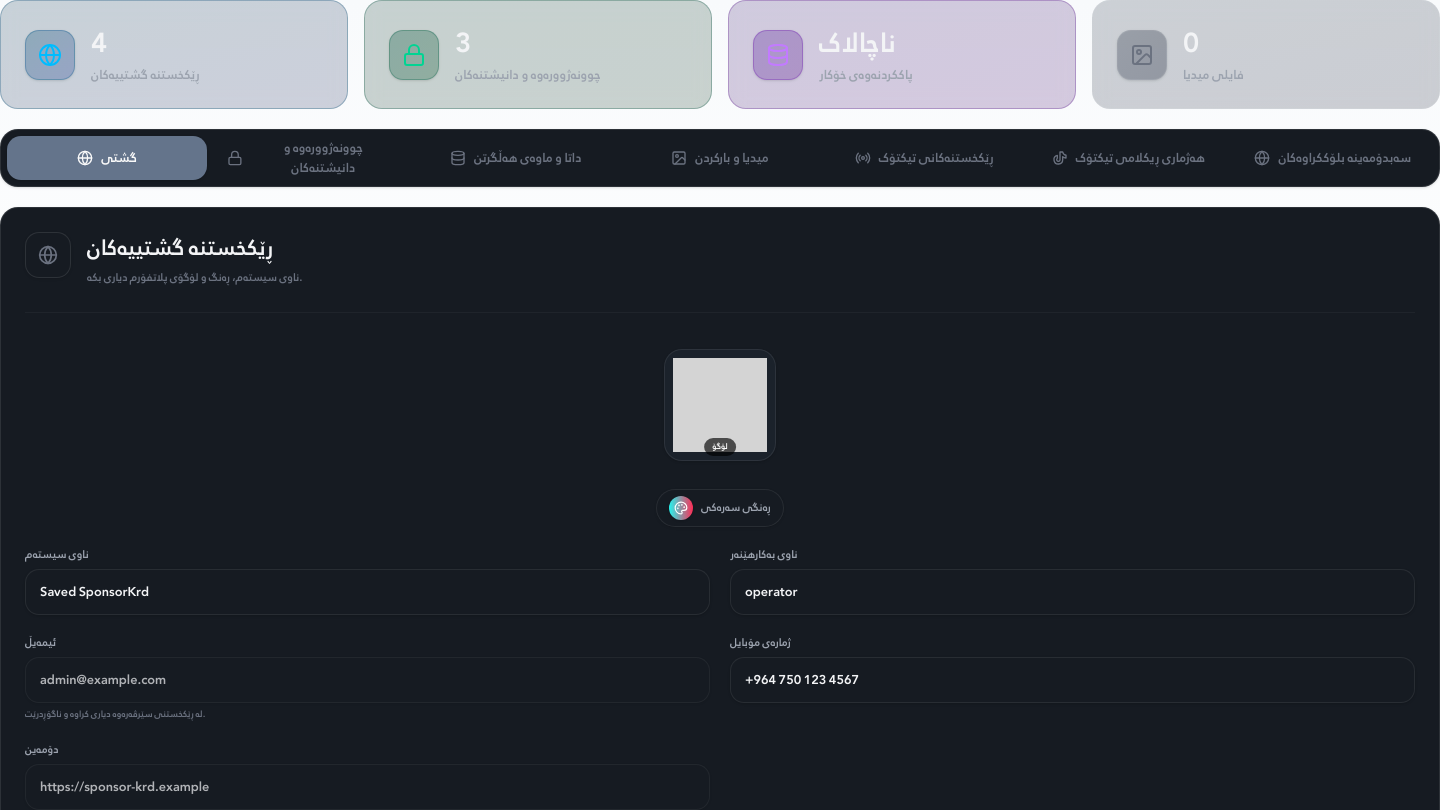
Test: PlatformSettingsPage General tab › loads the database-backed data retention tab
This screenshot has width=1440, height=810.
expect the 1st field showing "Saved SponsorKrd" is shown: met, box [25,568,710,614]
Click the tab "داتا و ماوەی هەڵگرتن" at (516, 158), box [416,136,616,180]
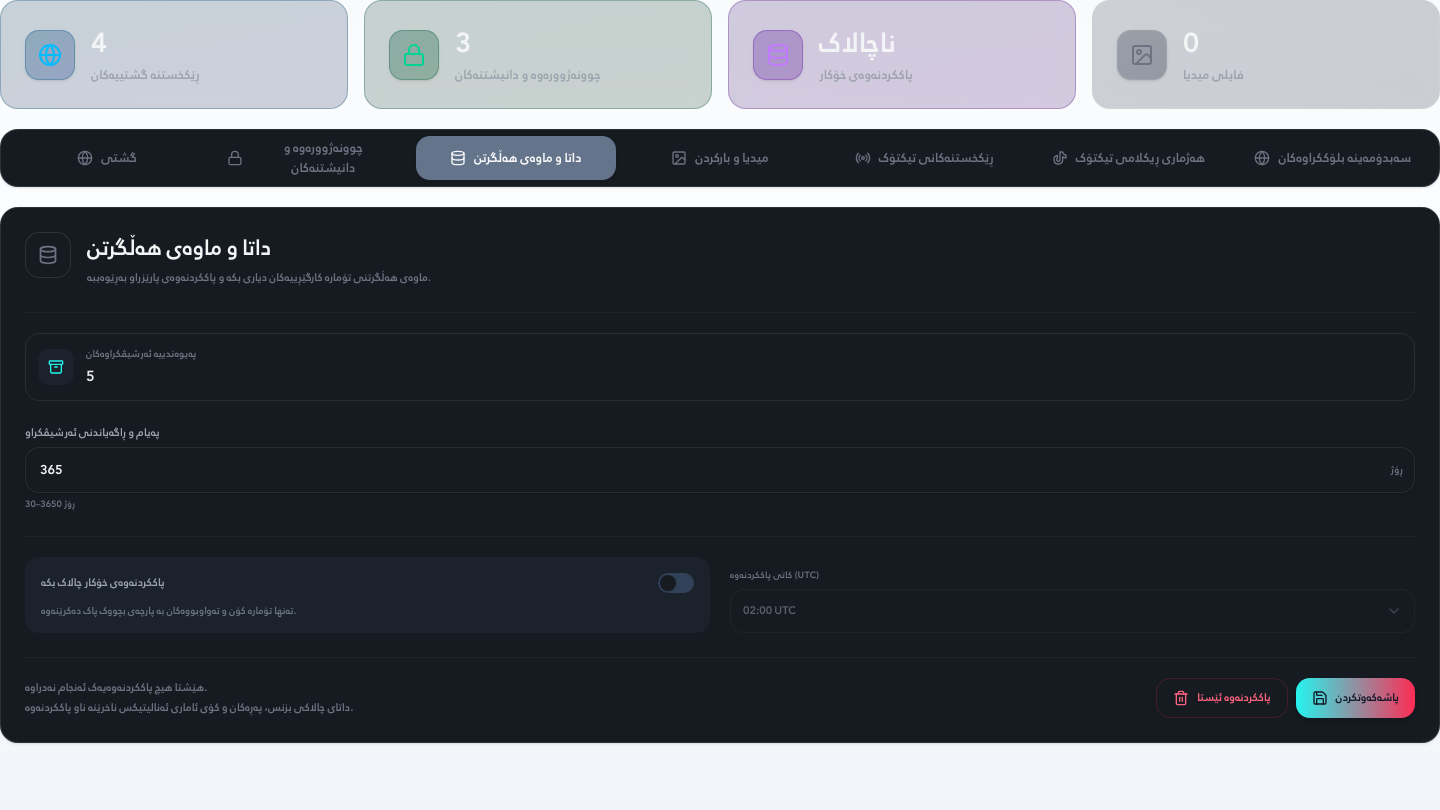
expect the text "پەیام و ڕاگەیاندنی ئەرشیڤکراو" is shown: met, box [25,423,160,442]
expect the number of number fields showing "365" is 1: met, box [25,447,1415,493]
